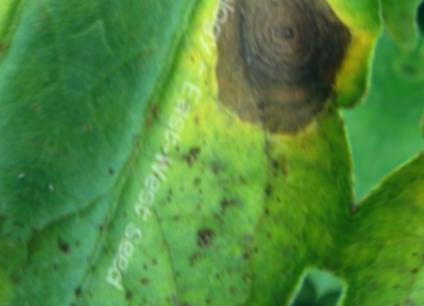Tomato Early blight leaf: (47, 0, 414, 306)
